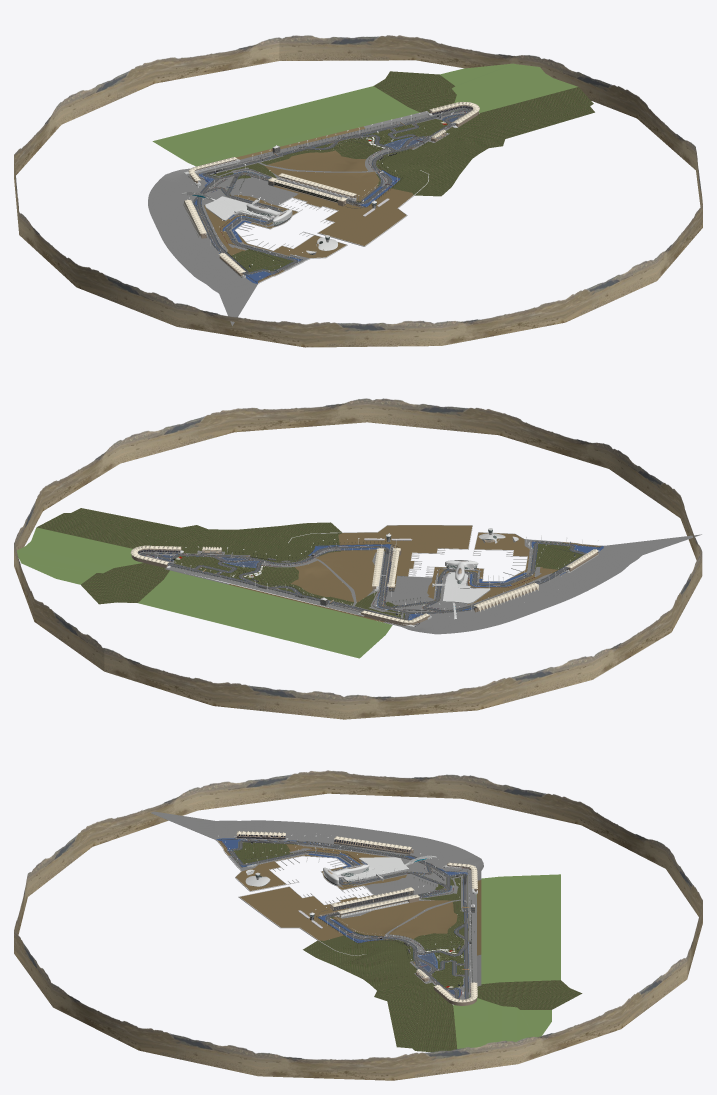
File: yas_marina_circuit_abu_dhabi_2021_layout-optimized-optimized.glb
3 renders of one model, top to bottom at view 1: azimuth 30°, elevation 25°; view 2: azimuth 150°, elevation 25°; view 3: azimuth 270°, elevation 25°, orthographic.
Parts seen in each view (by area): view 1: dcgp_yas_marina_2026_0; view 2: dcgp_yas_marina_2026_0; view 3: dcgp_yas_marina_2026_0.
Part boxes in pixels (x1,y1,x2,y2): dcgp_yas_marina_2026_0: (14, 35, 702, 347); dcgp_yas_marina_2026_0: (14, 398, 702, 719); dcgp_yas_marina_2026_0: (14, 770, 702, 1080).
Size of what is drawn, in the model's own units: 1402 by 104 by 1422.
Materials: 92 (81 with a texture image).
